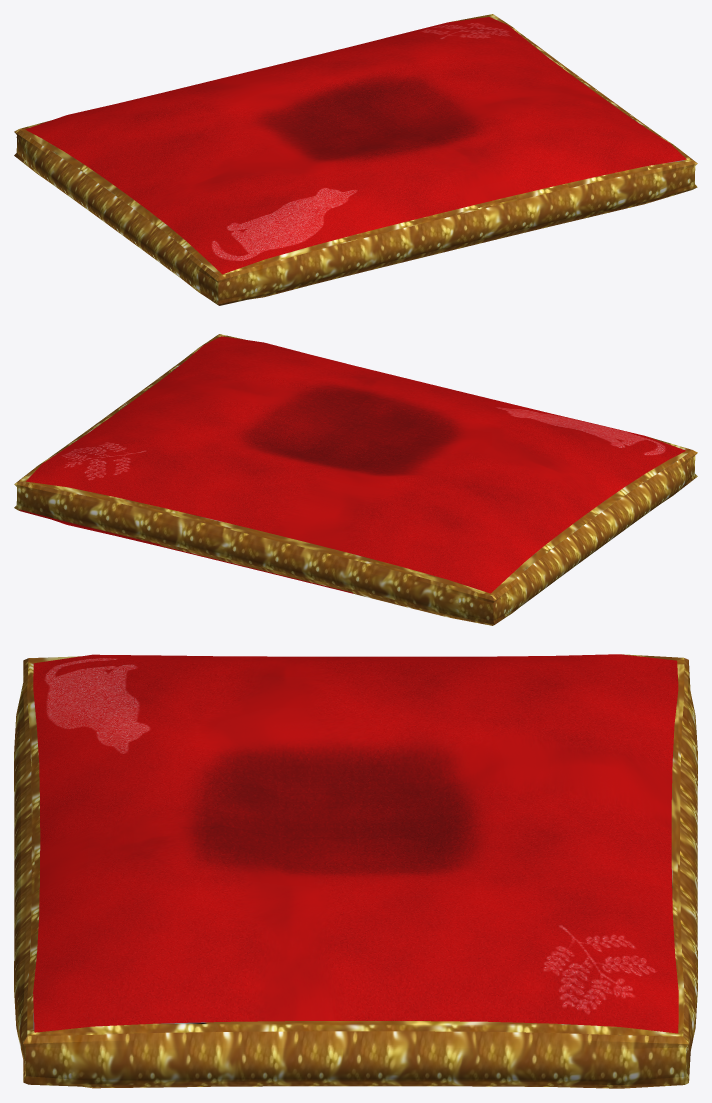
File: Pillowtest2.fbx
3 renders of one model, top to bottom at view 1: azimuth 30°, elevation 25°; view 2: azimuth 150°, elevation 25°; view 3: azimuth 270°, elevation 25°, orthographic. The views are drawn at different scales.
Visible parts, largest first — view 1: pCube2; view 2: pCube2; view 3: pCube2.
Part boxes in pixels (<box>): pCube2: <box>14,14,697,305</box>; pCube2: <box>14,334,697,625</box>; pCube2: <box>14,654,697,1088</box>.
Bounding box in the file's own units: 2.91 × 0.4459 × 2.13.
1 material, 1 textured.
